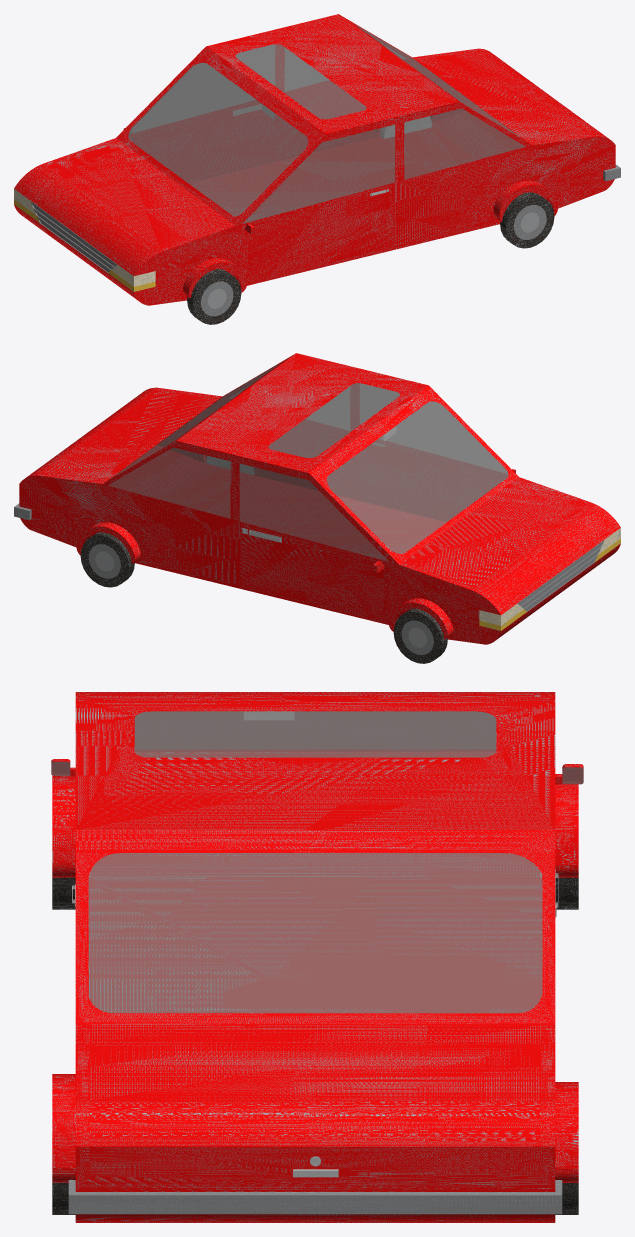
The picture shows the model from 3 angles, top to bottom: view 1: azimuth 30°, elevation 25°; view 2: azimuth 150°, elevation 25°; view 3: azimuth 270°, elevation 25°; orthographic projection. The views are drawn at different scales.
Parts seen in each view (by area): view 1: Simple_Red_Car (×17); view 2: Simple_Red_Car (×16); view 3: Simple_Red_Car (×7).
Boxes of the visible parts, x1,y1,x2,y2 form: Simple_Red_Car (×17): (14, 14, 615, 324); Simple_Red_Car (×16): (19, 353, 620, 663); Simple_Red_Car (×7): (52, 692, 578, 1222).
Size of the model in its own units: 212 by 100 by 65.73.
